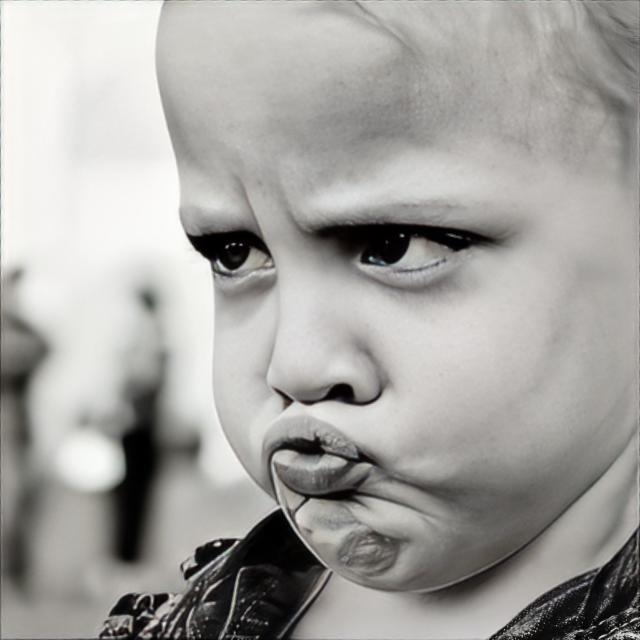anger: (152, 0, 640, 595)
